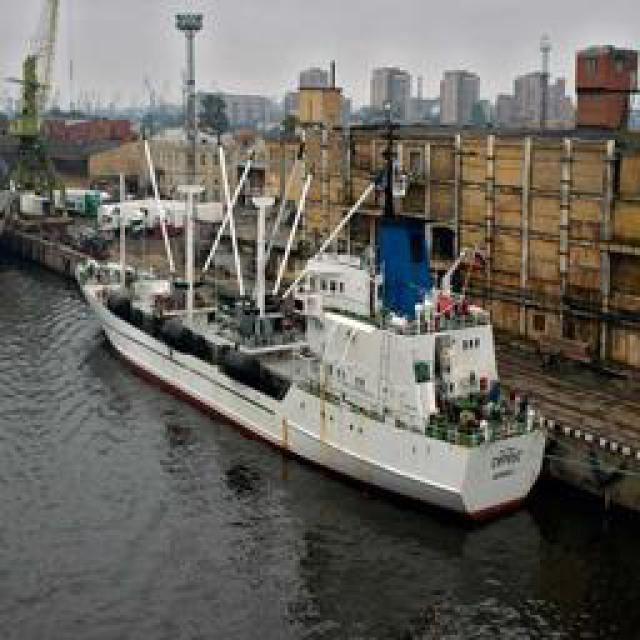Ship: (85, 238, 550, 523)
